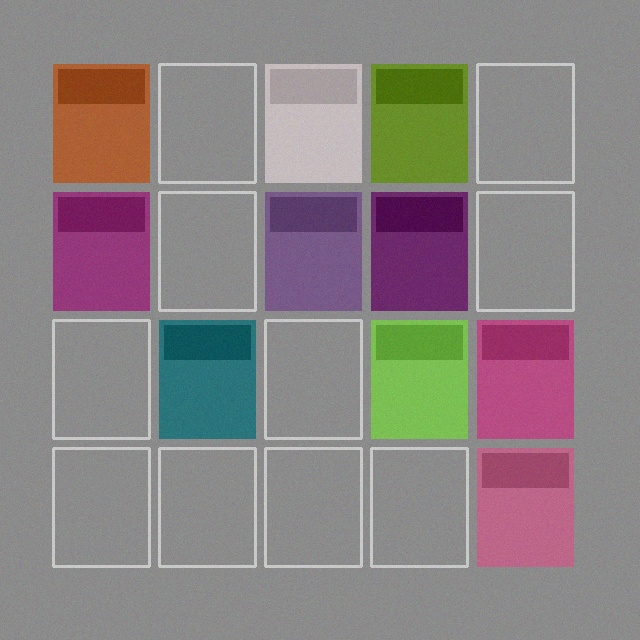space-empty: (159, 64, 255, 182), (477, 64, 573, 182), (159, 192, 255, 310), (477, 192, 573, 310), (53, 320, 149, 438), (265, 320, 361, 438), (53, 448, 149, 566), (159, 448, 255, 566), (265, 448, 361, 566), (371, 448, 467, 566)
space-occupied: (53, 64, 149, 182), (265, 64, 361, 182), (371, 64, 467, 182), (53, 192, 149, 310), (265, 192, 361, 310), (371, 192, 467, 310), (159, 320, 255, 438), (371, 320, 467, 438), (477, 320, 573, 438), (477, 448, 573, 566)
